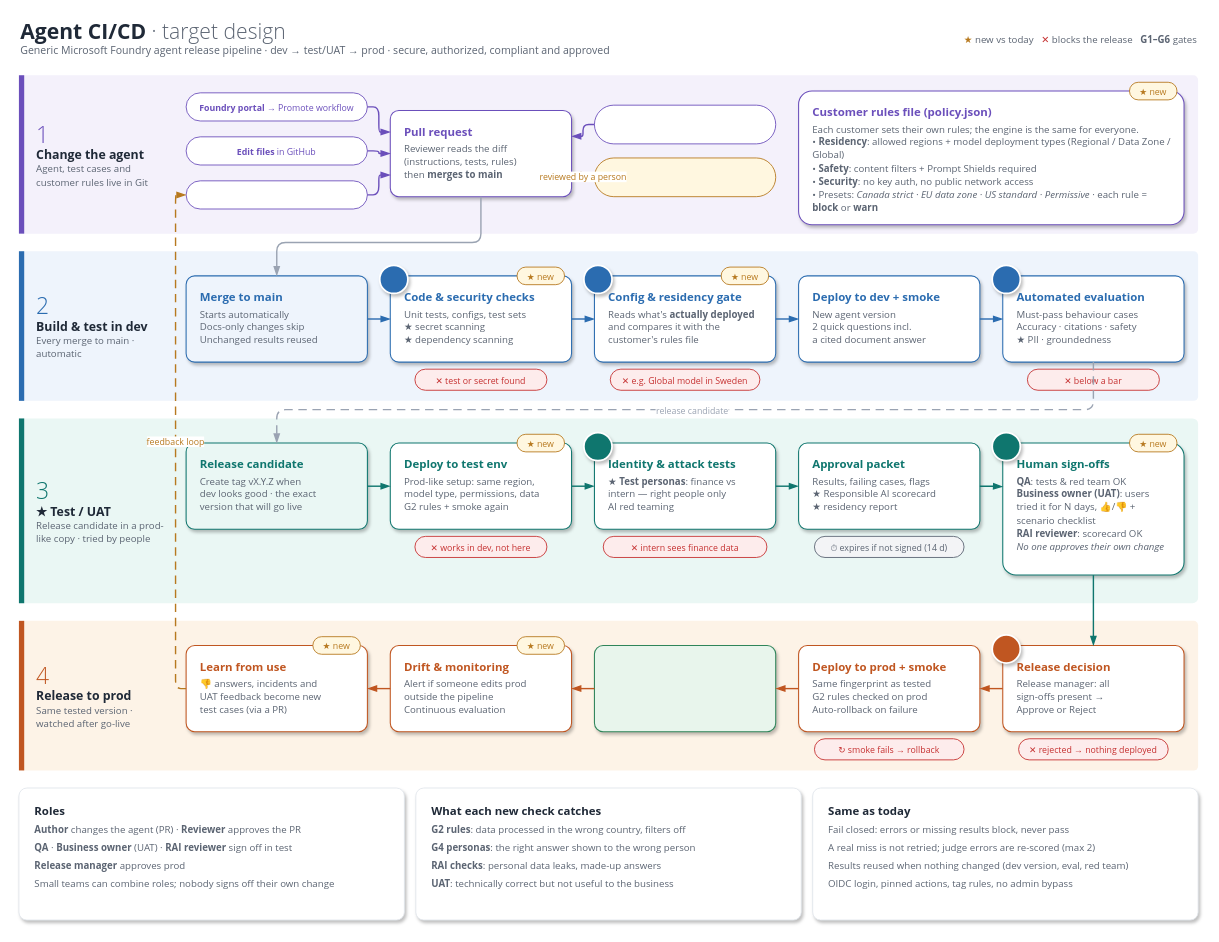
The diagram is 1219 pixels wide and 942 high, and some of its shapes have lost their labels. The centre of each missing label's shape, as x and y in pixels:
"G1" goes at point (394, 280).
"G2" goes at point (598, 280).
"G3" goes at point (1006, 280).
"G4" goes at point (598, 447).
"G5" goes at point (1006, 447).
"G6" goes at point (1006, 650).
"Harvest conversations + UAT 👎" goes at point (276, 194).
"Live ✓ Customer's prod project Approval history kept as the audit record" goes at point (685, 689).
"Path A · customer test cases (questions + expected answers)" goes at point (685, 124).
"★ Path B · no test cases yet: ASSERT drafts them from plain language" goes at point (685, 177).
